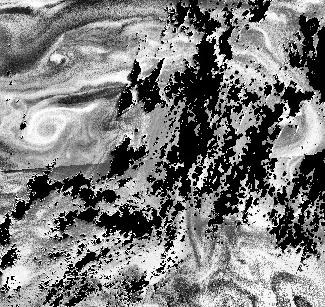CE: (19, 101, 73, 155)
